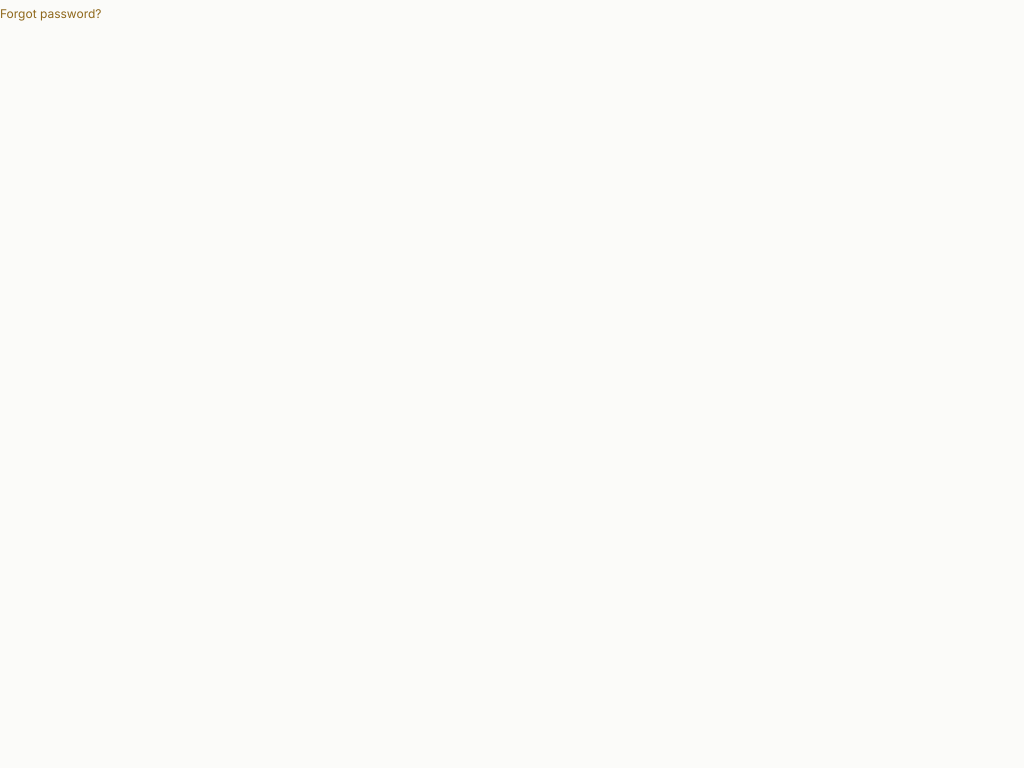
Test: Phase 3: Authentication and Account Entry › Password Recovery (ForgotPasswordDialog) › sends reset link and provides anti-enumeration success message
Step 1. Click the button "Forgot password?" → (51, 14), box 0,6 -> 102,22
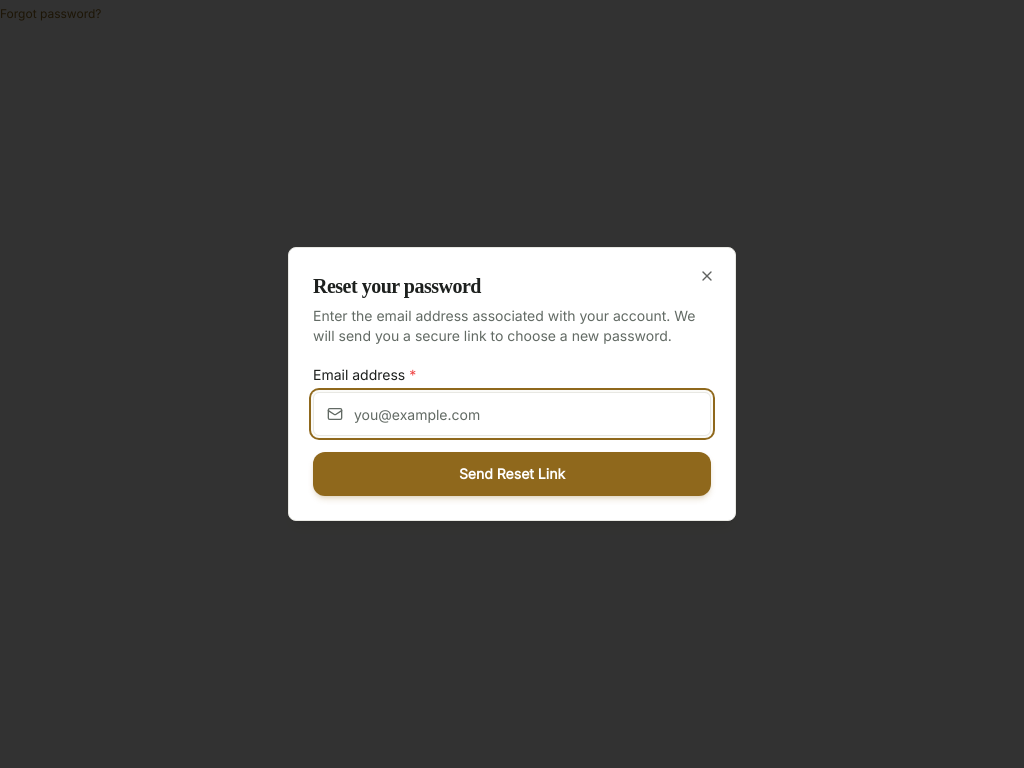
Check: the heading "Reset your password" is shown, box 313,275 -> 481,297
Step 2. Type "reader@example.com" into the field labelled "Email address *" → (512, 414), box 313,392 -> 711,436
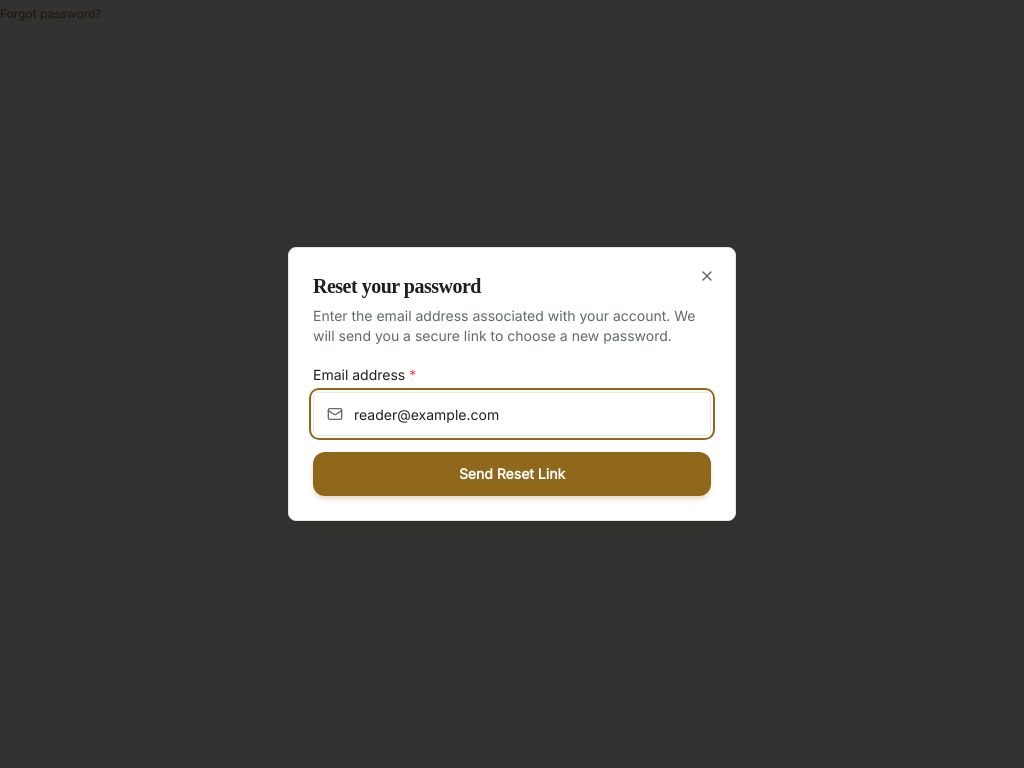
Step 3. Click the button "Send Reset Link" → (512, 474), box 313,452 -> 711,496
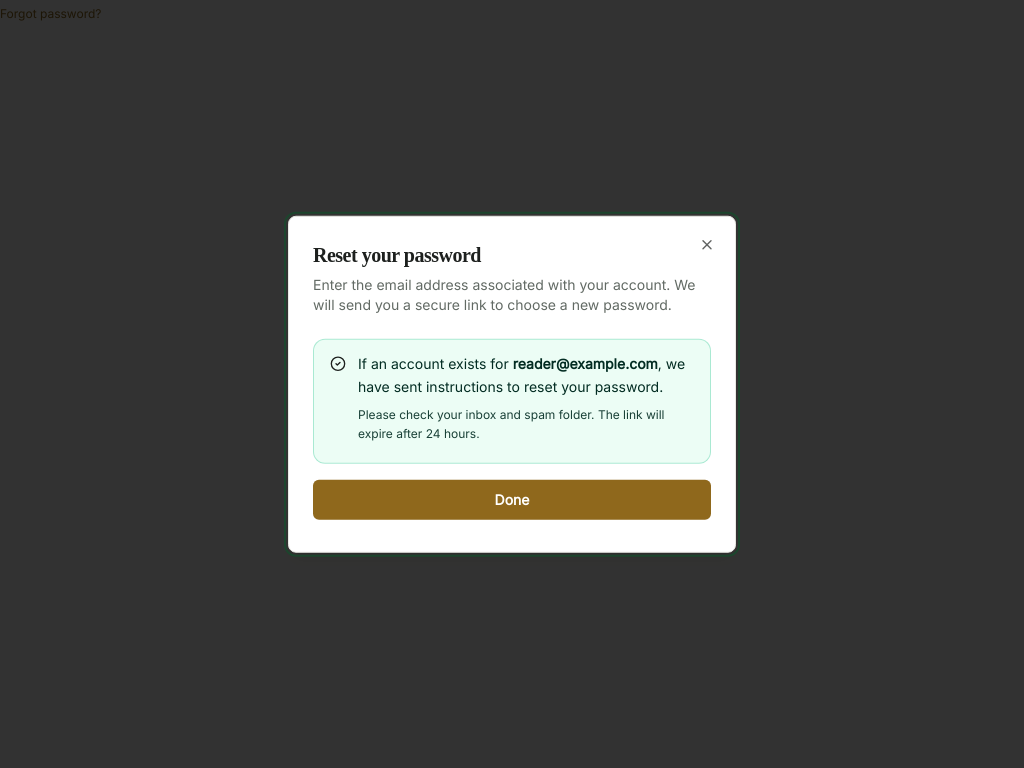
Check: the text "If an account exists for" is shown, box 358,355 -> 513,372
